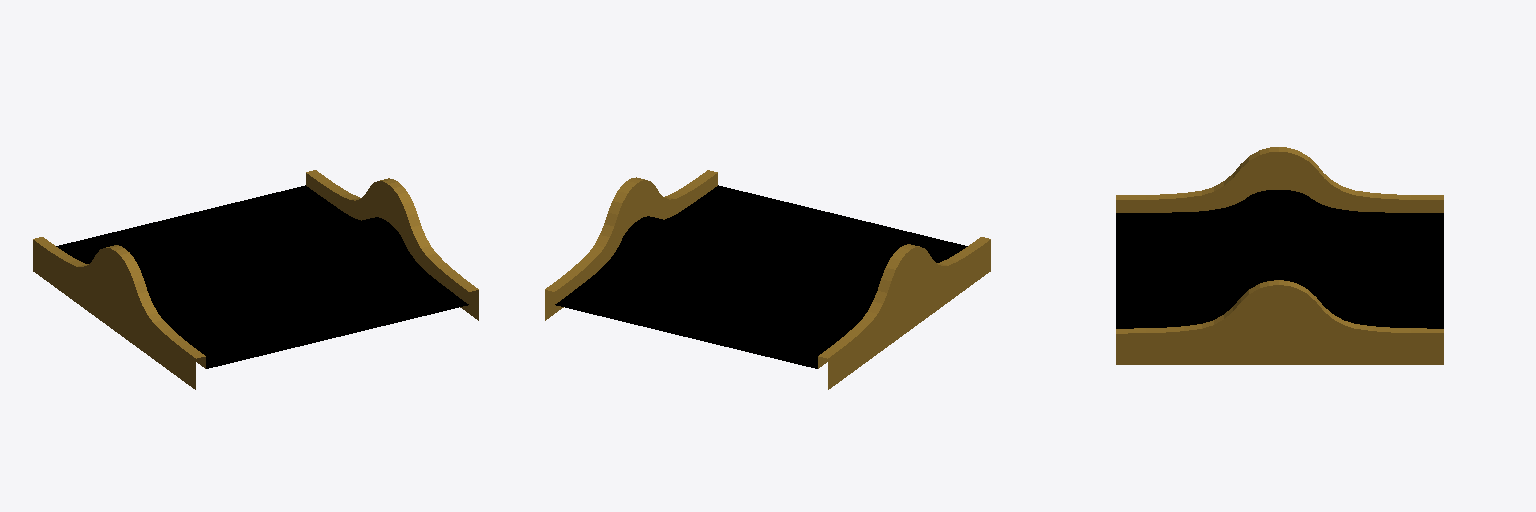
The model's file is sHill_B_3x3.obj.
3 views of the same model, side by side, from view 1: azimuth 30°, elevation 25°; view 2: azimuth 150°, elevation 25°; view 3: azimuth 270°, elevation 25° (orthographic).
Visible parts, largest first — view 1: sHill_B_3x3:sHill_B_3x3; view 2: sHill_B_3x3:sHill_B_3x3; view 3: sHill_B_3x3:sHill_B_3x3.
Part boxes in pixels (x1,y1,x2,y2): sHill_B_3x3:sHill_B_3x3: (33, 170, 478, 389); sHill_B_3x3:sHill_B_3x3: (545, 170, 990, 389); sHill_B_3x3:sHill_B_3x3: (1116, 147, 1443, 364).
Size of the model in its own units: 3 by 0.812 by 3.